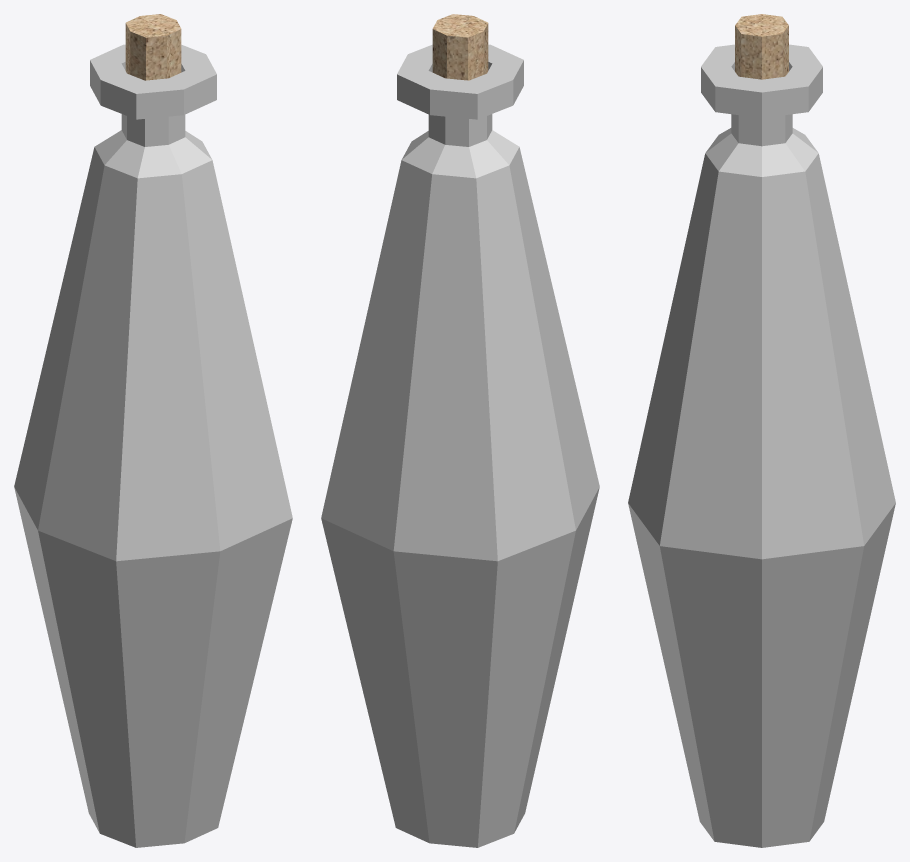
Rendered from 光のエレメント.fbx.
The picture shows the model from 3 angles, left to right: view 1: azimuth 30°, elevation 25°; view 2: azimuth 150°, elevation 25°; view 3: azimuth 270°, elevation 25°; orthographic projection.
Parts seen in each view (by area): view 1: 瓶, 栓; view 2: 瓶, 栓; view 3: 瓶, 栓.
Part boxes in pixels (x1=…): 瓶: x1=14, y1=44, x2=292, y2=847; 栓: x1=125, y1=14, x2=181, y2=80; 瓶: x1=321, y1=44, x2=599, y2=847; 栓: x1=432, y1=14, x2=488, y2=80; 瓶: x1=628, y1=44, x2=895, y2=847; 栓: x1=735, y1=14, x2=788, y2=79.
Bounding box in the file's own units: 319 × 1049 × 320.
